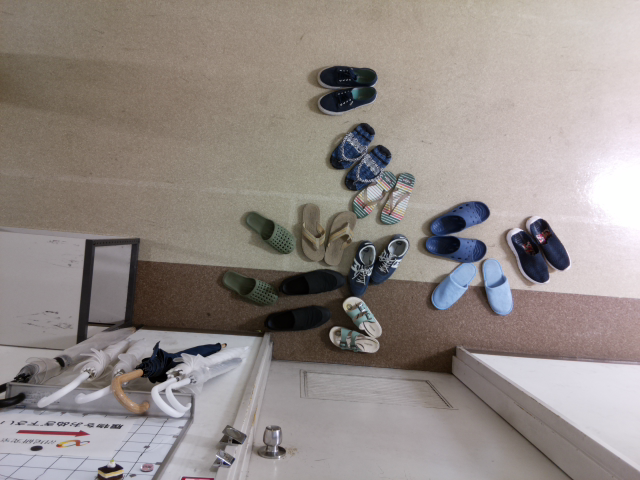Copy of Copy of Copy of Copy of Copy of Copy of Copy of sandal: (329, 325, 379, 353)
Copy of Copy of Copy of Copy of Copy of Copy of Copy of shoes: (265, 305, 331, 332)
Copy of Copy of Copy of Copy of Copy of Copy of sandal: (342, 296, 382, 338)
Copy of Copy of Copy of Copy of Copy of Copy of shoes: (280, 268, 346, 296)
Copy of Copy of Copy of Copy of Copy of sandal: (302, 203, 325, 261)
Copy of Copy of Copy of Copy of Copy of shoes: (346, 240, 376, 296)
Copy of Copy of Copy of Copy of Copy of slipper: (221, 270, 277, 306)
Copy of Copy of Copy of Copy of sandal: (323, 211, 357, 265)
Copy of Copy of Copy of Copy of shoes: (368, 234, 410, 286)
Copy of Copy of Copy of Copy of slipper: (245, 210, 294, 254)
Copy of Copy of Copy of sandal: (380, 171, 414, 224)
Copy of Copy of Copy of shoes: (505, 226, 549, 284)
Copy of Copy of Copy of slipper: (430, 261, 477, 310)
Copy of Copy of sandal: (352, 169, 398, 218)
Copy of Copy of shoes: (525, 214, 572, 270)
Copy of Copy of slipper: (480, 257, 513, 315)
Copy of sandal: (344, 143, 392, 191)
Copy of shoes: (317, 86, 378, 115)
Copy of slipper: (425, 235, 487, 263)
sandal: (329, 122, 374, 169)
shoes: (318, 64, 378, 89)
slipper: (429, 200, 490, 236)
